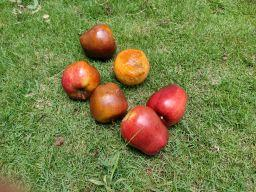apple: (115, 104, 176, 159), (142, 76, 195, 129), (56, 57, 104, 106), (110, 43, 158, 90), (87, 78, 133, 127), (77, 20, 120, 63)
